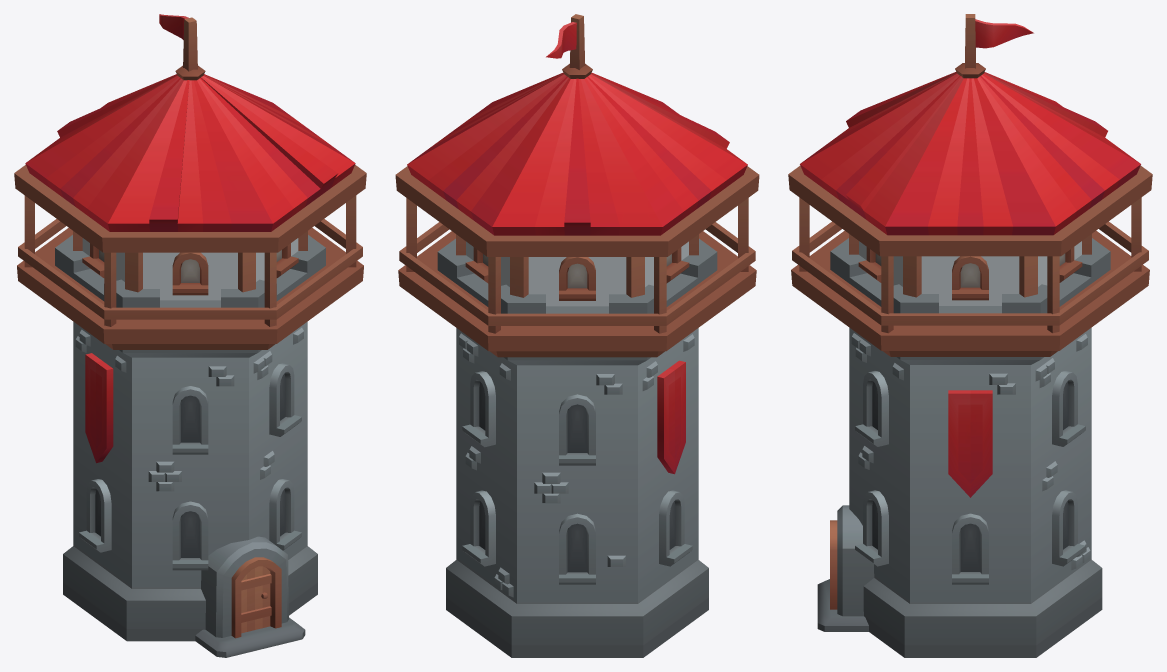
File: building_tower_B_red.gltf
3 renders of one model, left to right at view 1: azimuth 30°, elevation 25°; view 2: azimuth 150°, elevation 25°; view 3: azimuth 270°, elevation 25°, orthographic. The views are drawn at different scales.
Visible parts, largest first — view 1: building_tower_B_red, building_tower_B_top_red; view 2: building_tower_B_red, building_tower_B_top_red; view 3: building_tower_B_red, building_tower_B_top_red.
Part boxes in pixels (<box>): building_tower_B_red: <box>55,235,325,657</box>; building_tower_B_top_red: <box>14,14,366,349</box>; building_tower_B_red: <box>437,238,717,657</box>; building_tower_B_top_red: <box>395,14,759,357</box>; building_tower_B_red: <box>817,238,1110,657</box>; building_tower_B_top_red: <box>788,14,1152,356</box>.
Size of the model in its own units: 1.2 by 2.49 by 1.38.
1 material, 1 textured.
